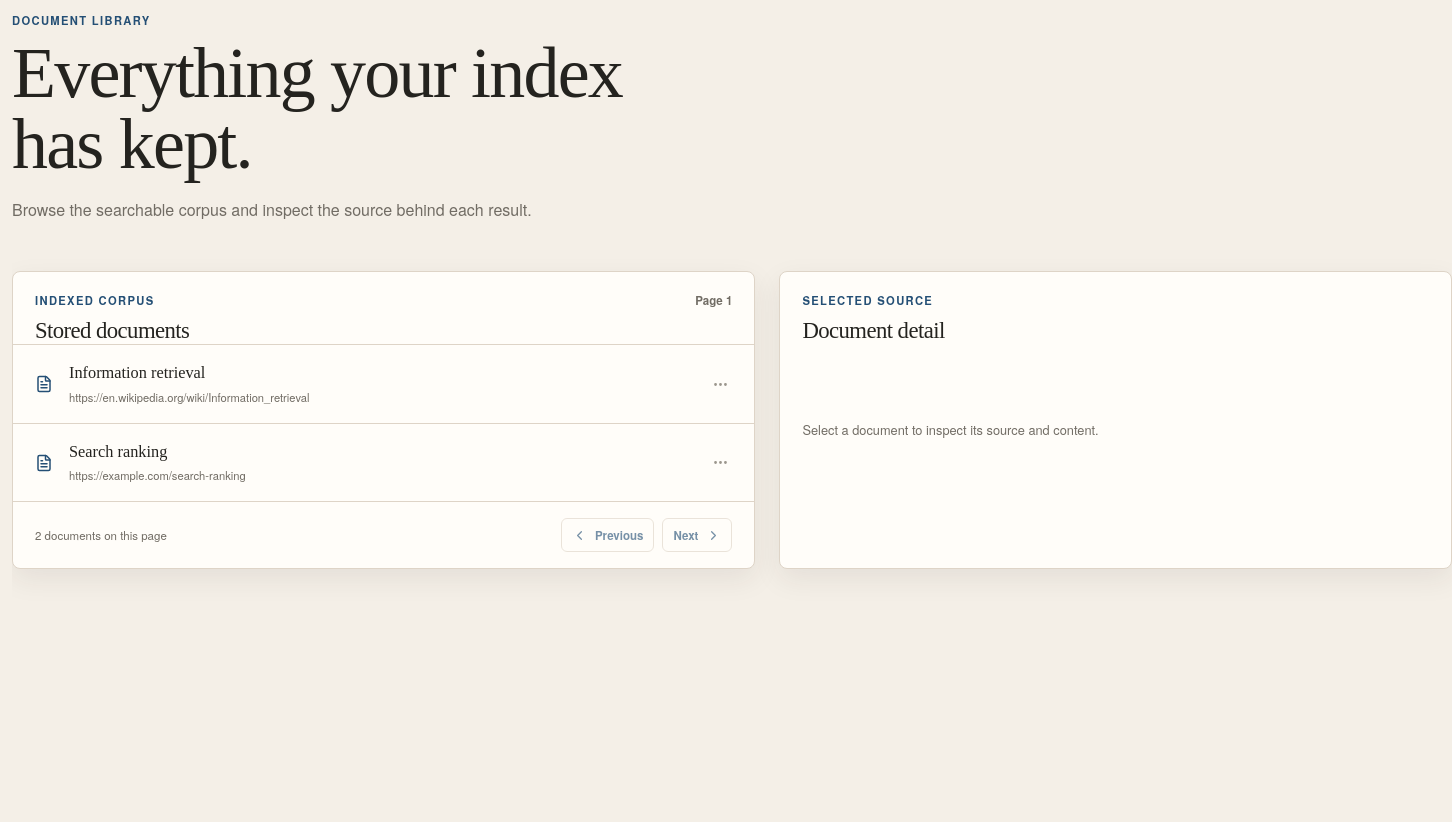
Test case: LibraryPage › loads documents and selects a readable detail preview
Expected: the text "Loading documents..." is shown, [13,344,754,502]
Expected: the text "Information retrieval" is shown, [69,364,205,382]
Step 1. Click the button "Information retrieval" → [137, 373], box [13,346,754,424]
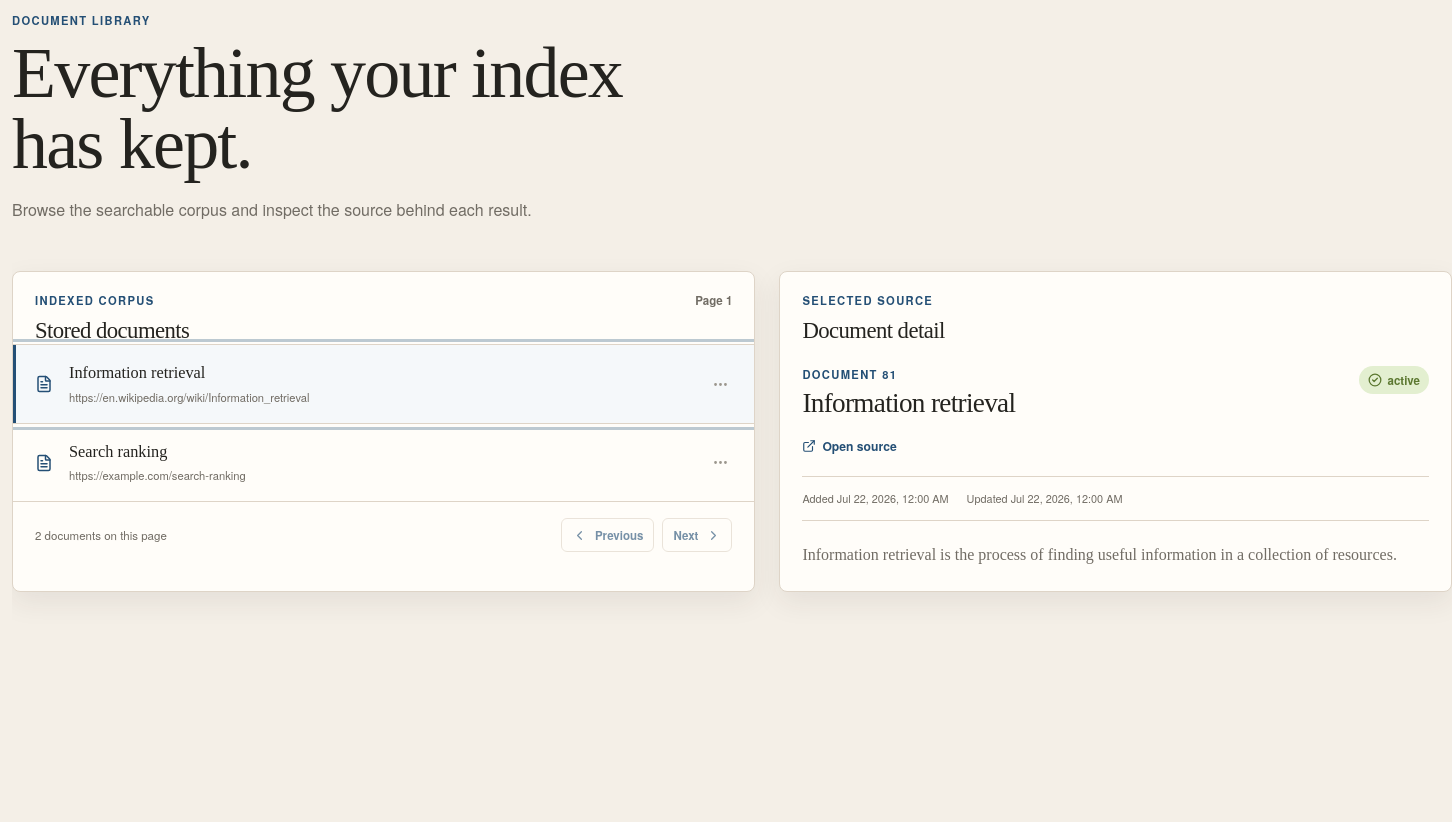
Expected: the heading "Information retrieval" is shown, [802,390,1015,419]
Expected: the text "Information retrieval is the process of finding useful information in a collection of resources." is shown, [802,546,1397,563]
